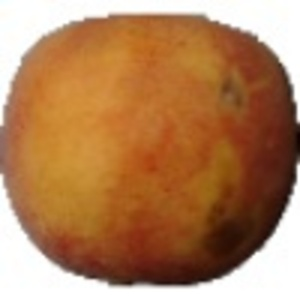pêssego: (1, 1, 300, 289)
